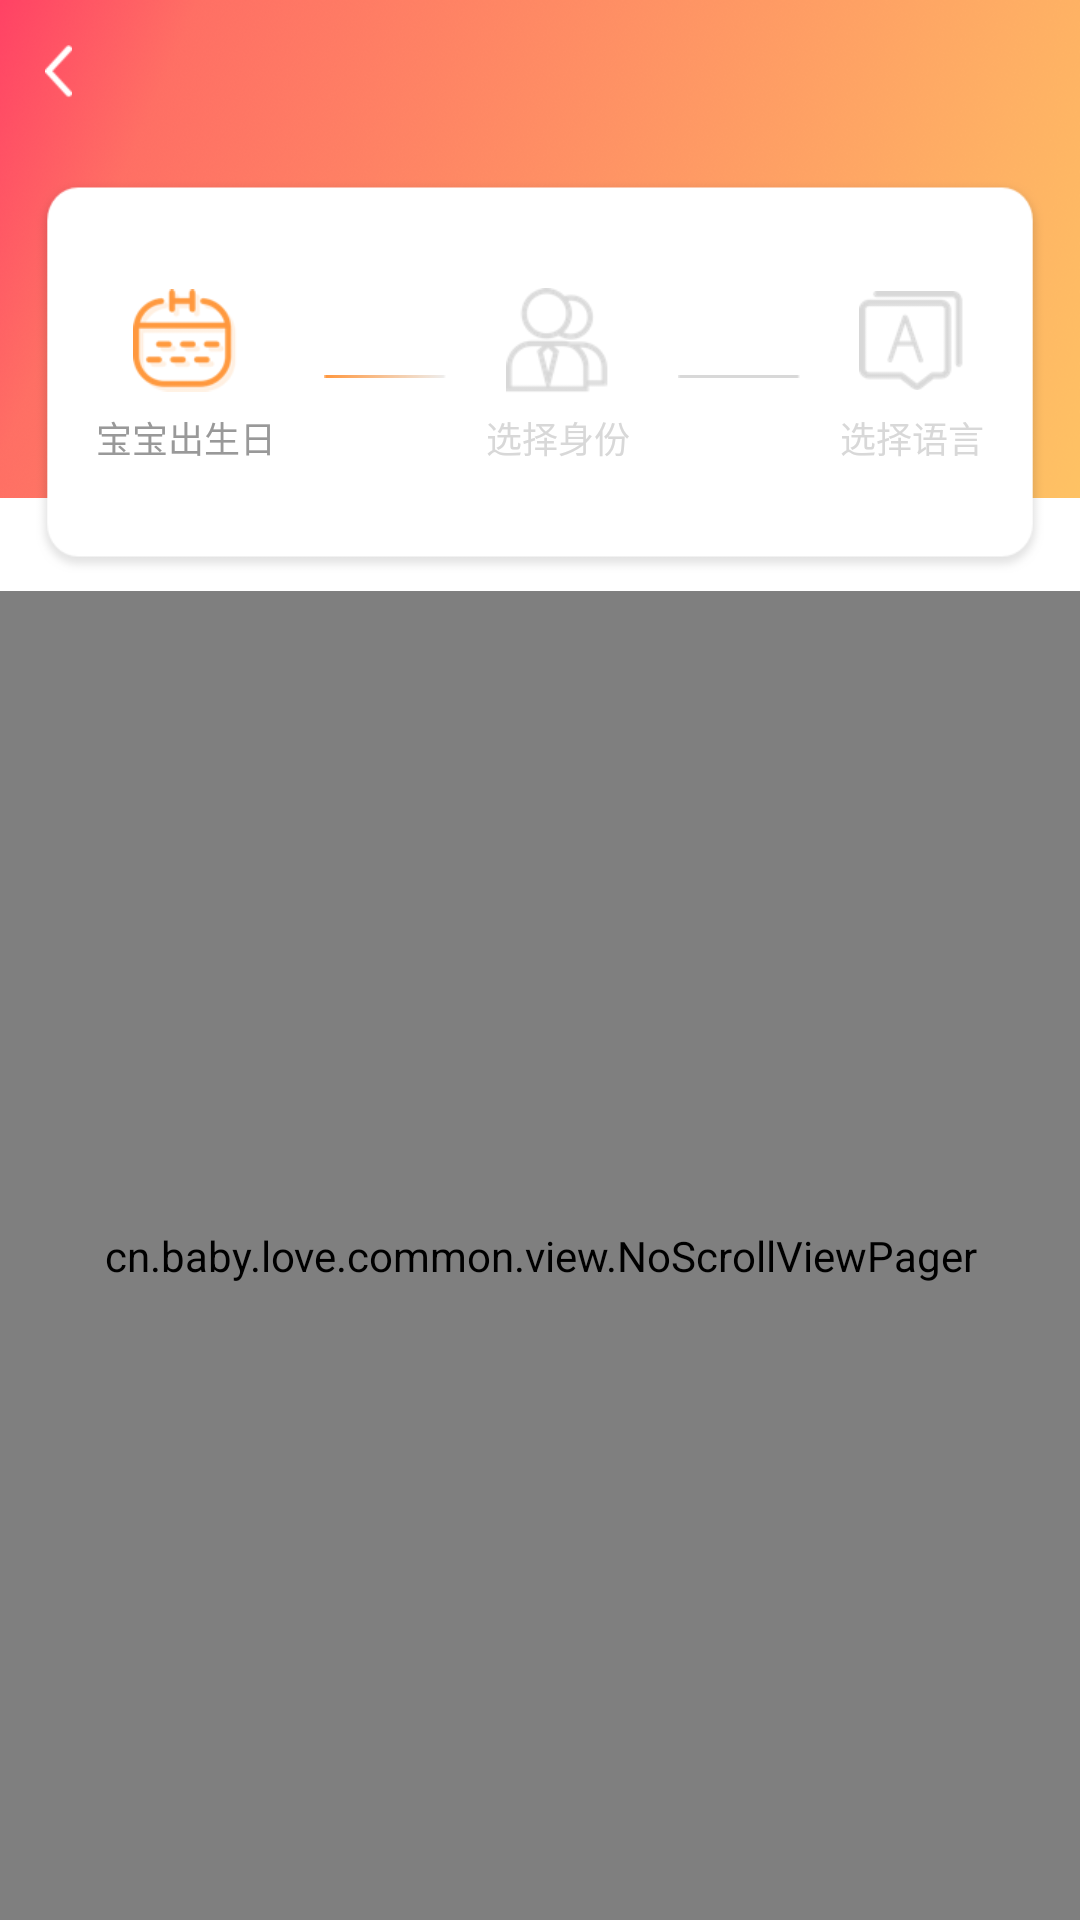

Icon click points for this 1080*1920 phone screenshot, format point (x, y):
back: point (58, 71)
